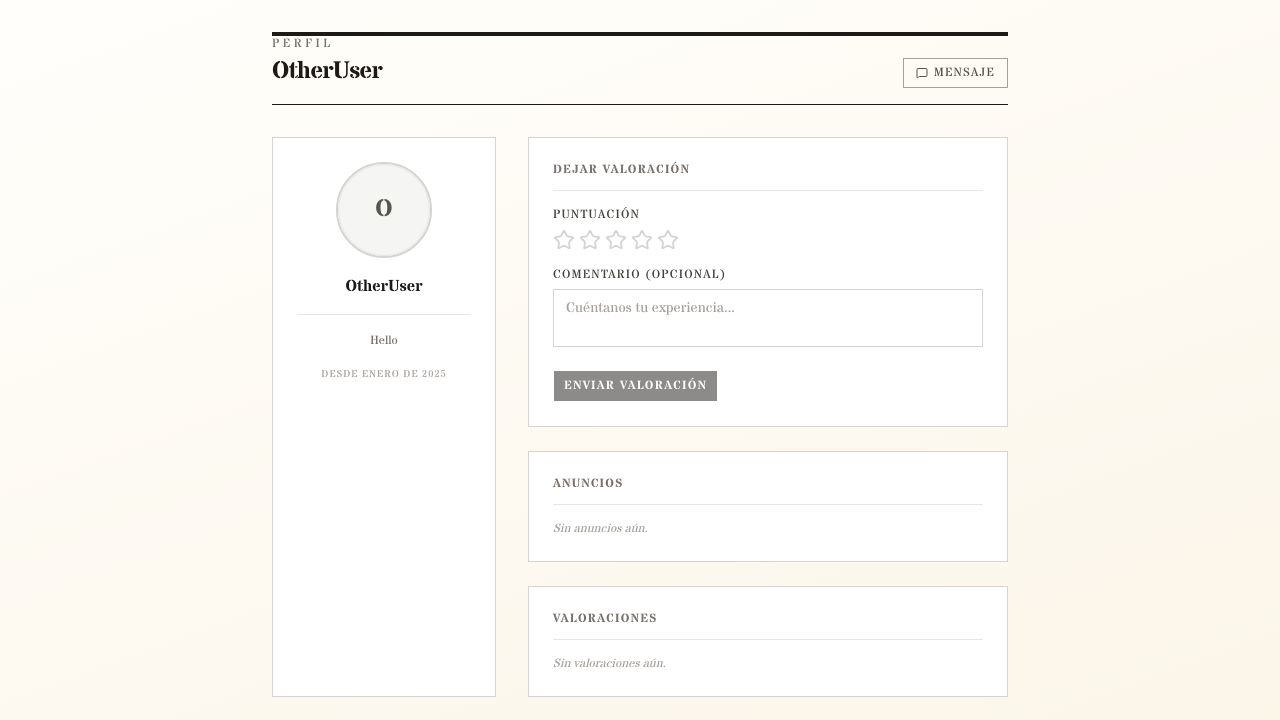
Test: UserProfile › shows success message after submitting a rating
This screenshot has width=1280, height=720.
Check: the text "Dejar valoración" is shown, box [553,162,983,191]
Step 1. Click the button named "puntuar con" → (668, 240), box [657,229,679,251]
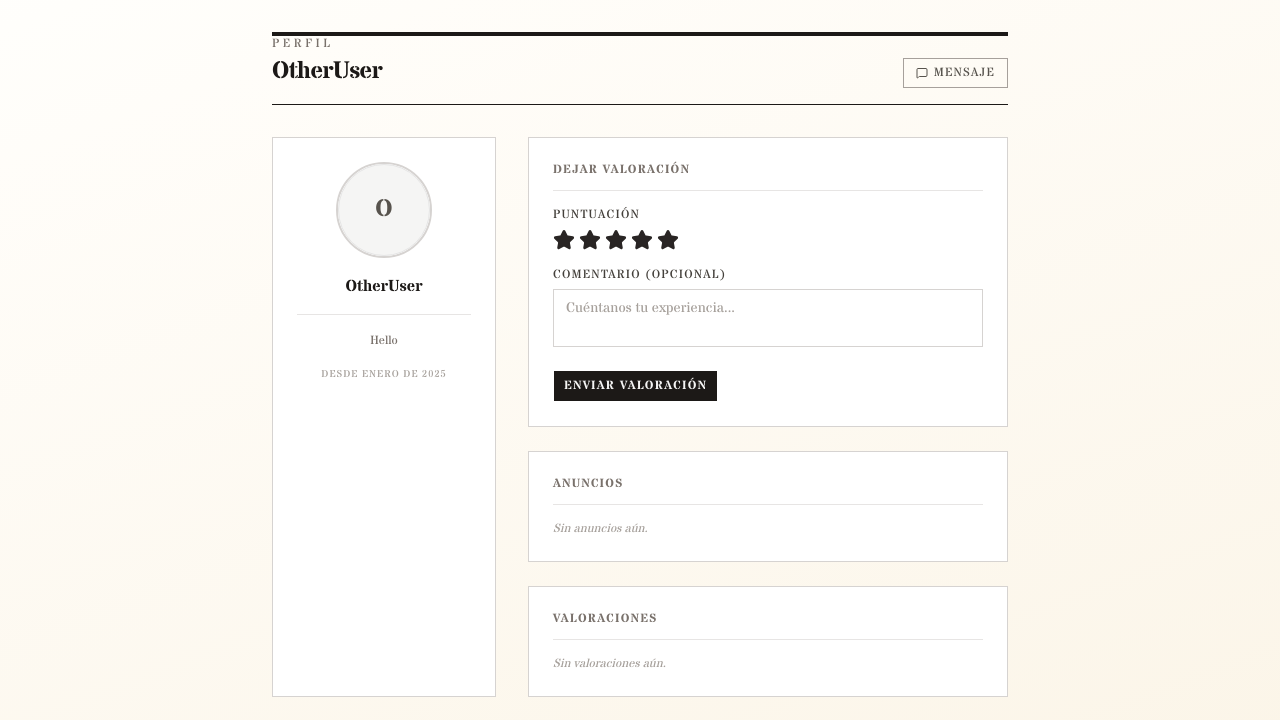
Step 2. Click the button "Enviar valoración" → (636, 386), box [553,370,718,402]
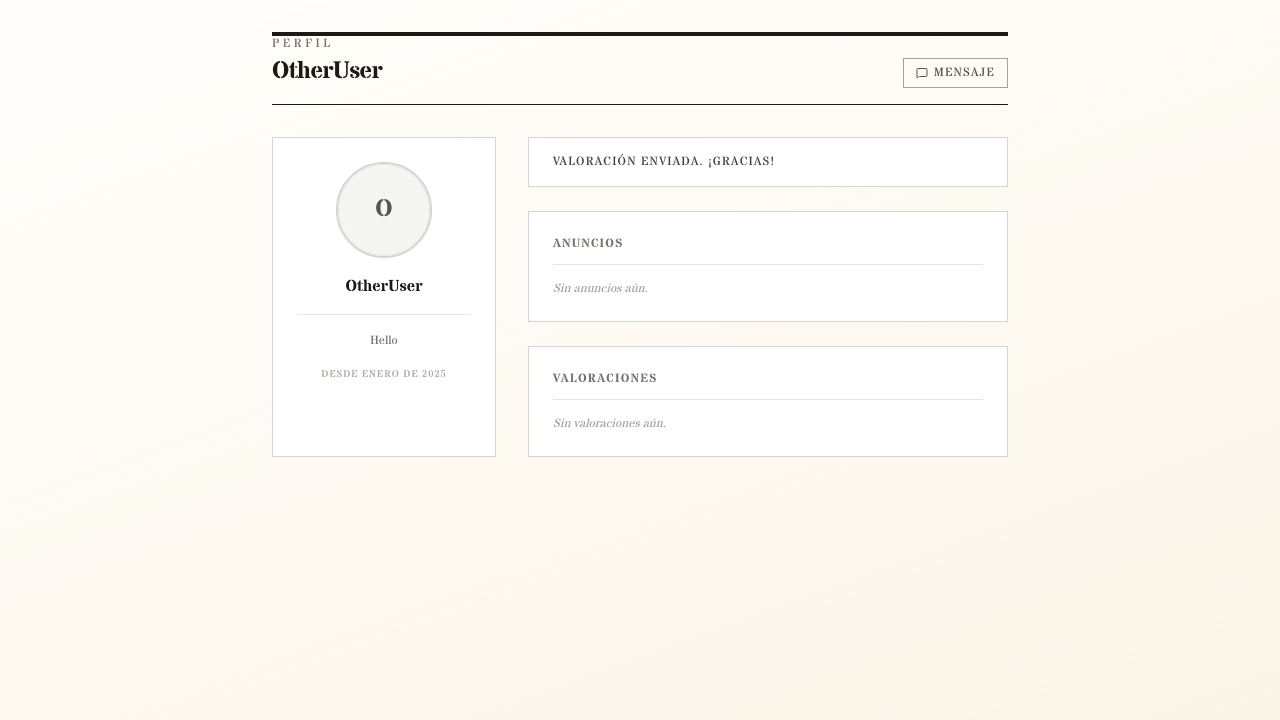
Check: the text "Valoración enviada. ¡Gracias!" is shown, box [553,153,775,170]
